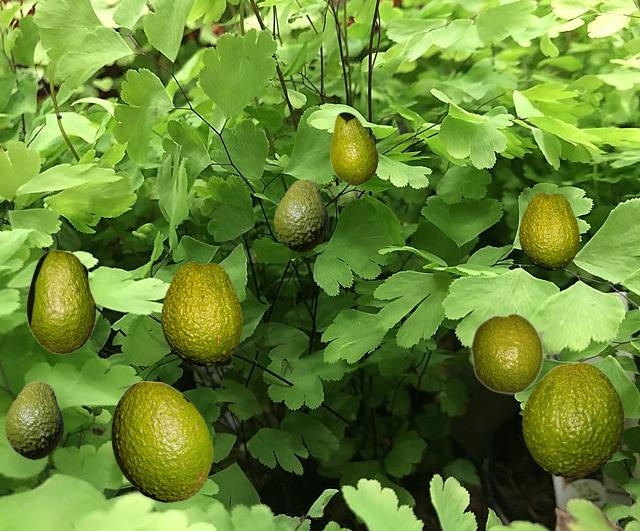avocado: (111, 381, 212, 501), (522, 362, 623, 476), (161, 261, 241, 365), (26, 249, 95, 353), (470, 312, 543, 394), (519, 192, 578, 269), (5, 381, 62, 458), (274, 179, 327, 251), (330, 112, 377, 184)
